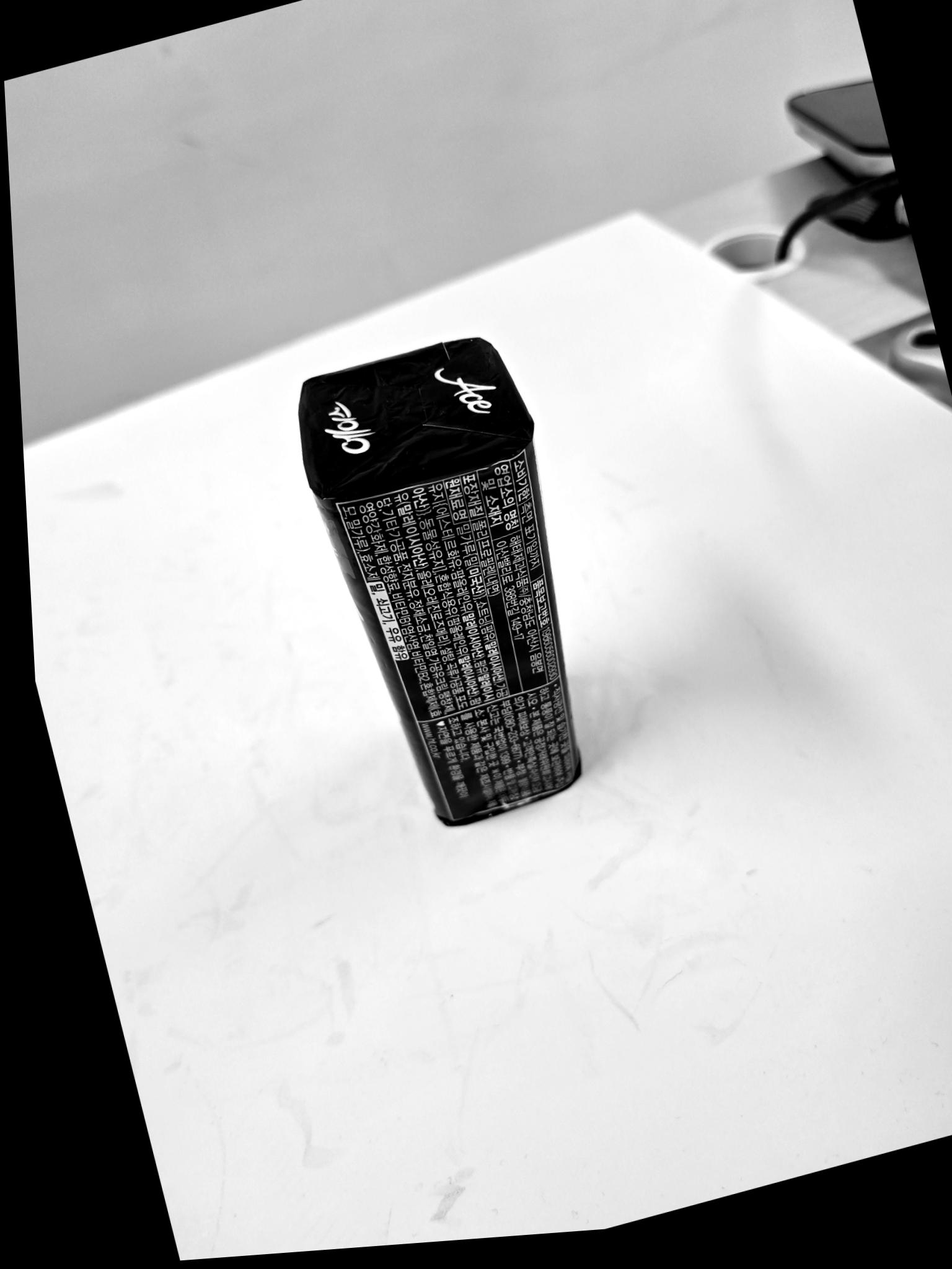cracker_ace: (299, 337, 581, 824)
